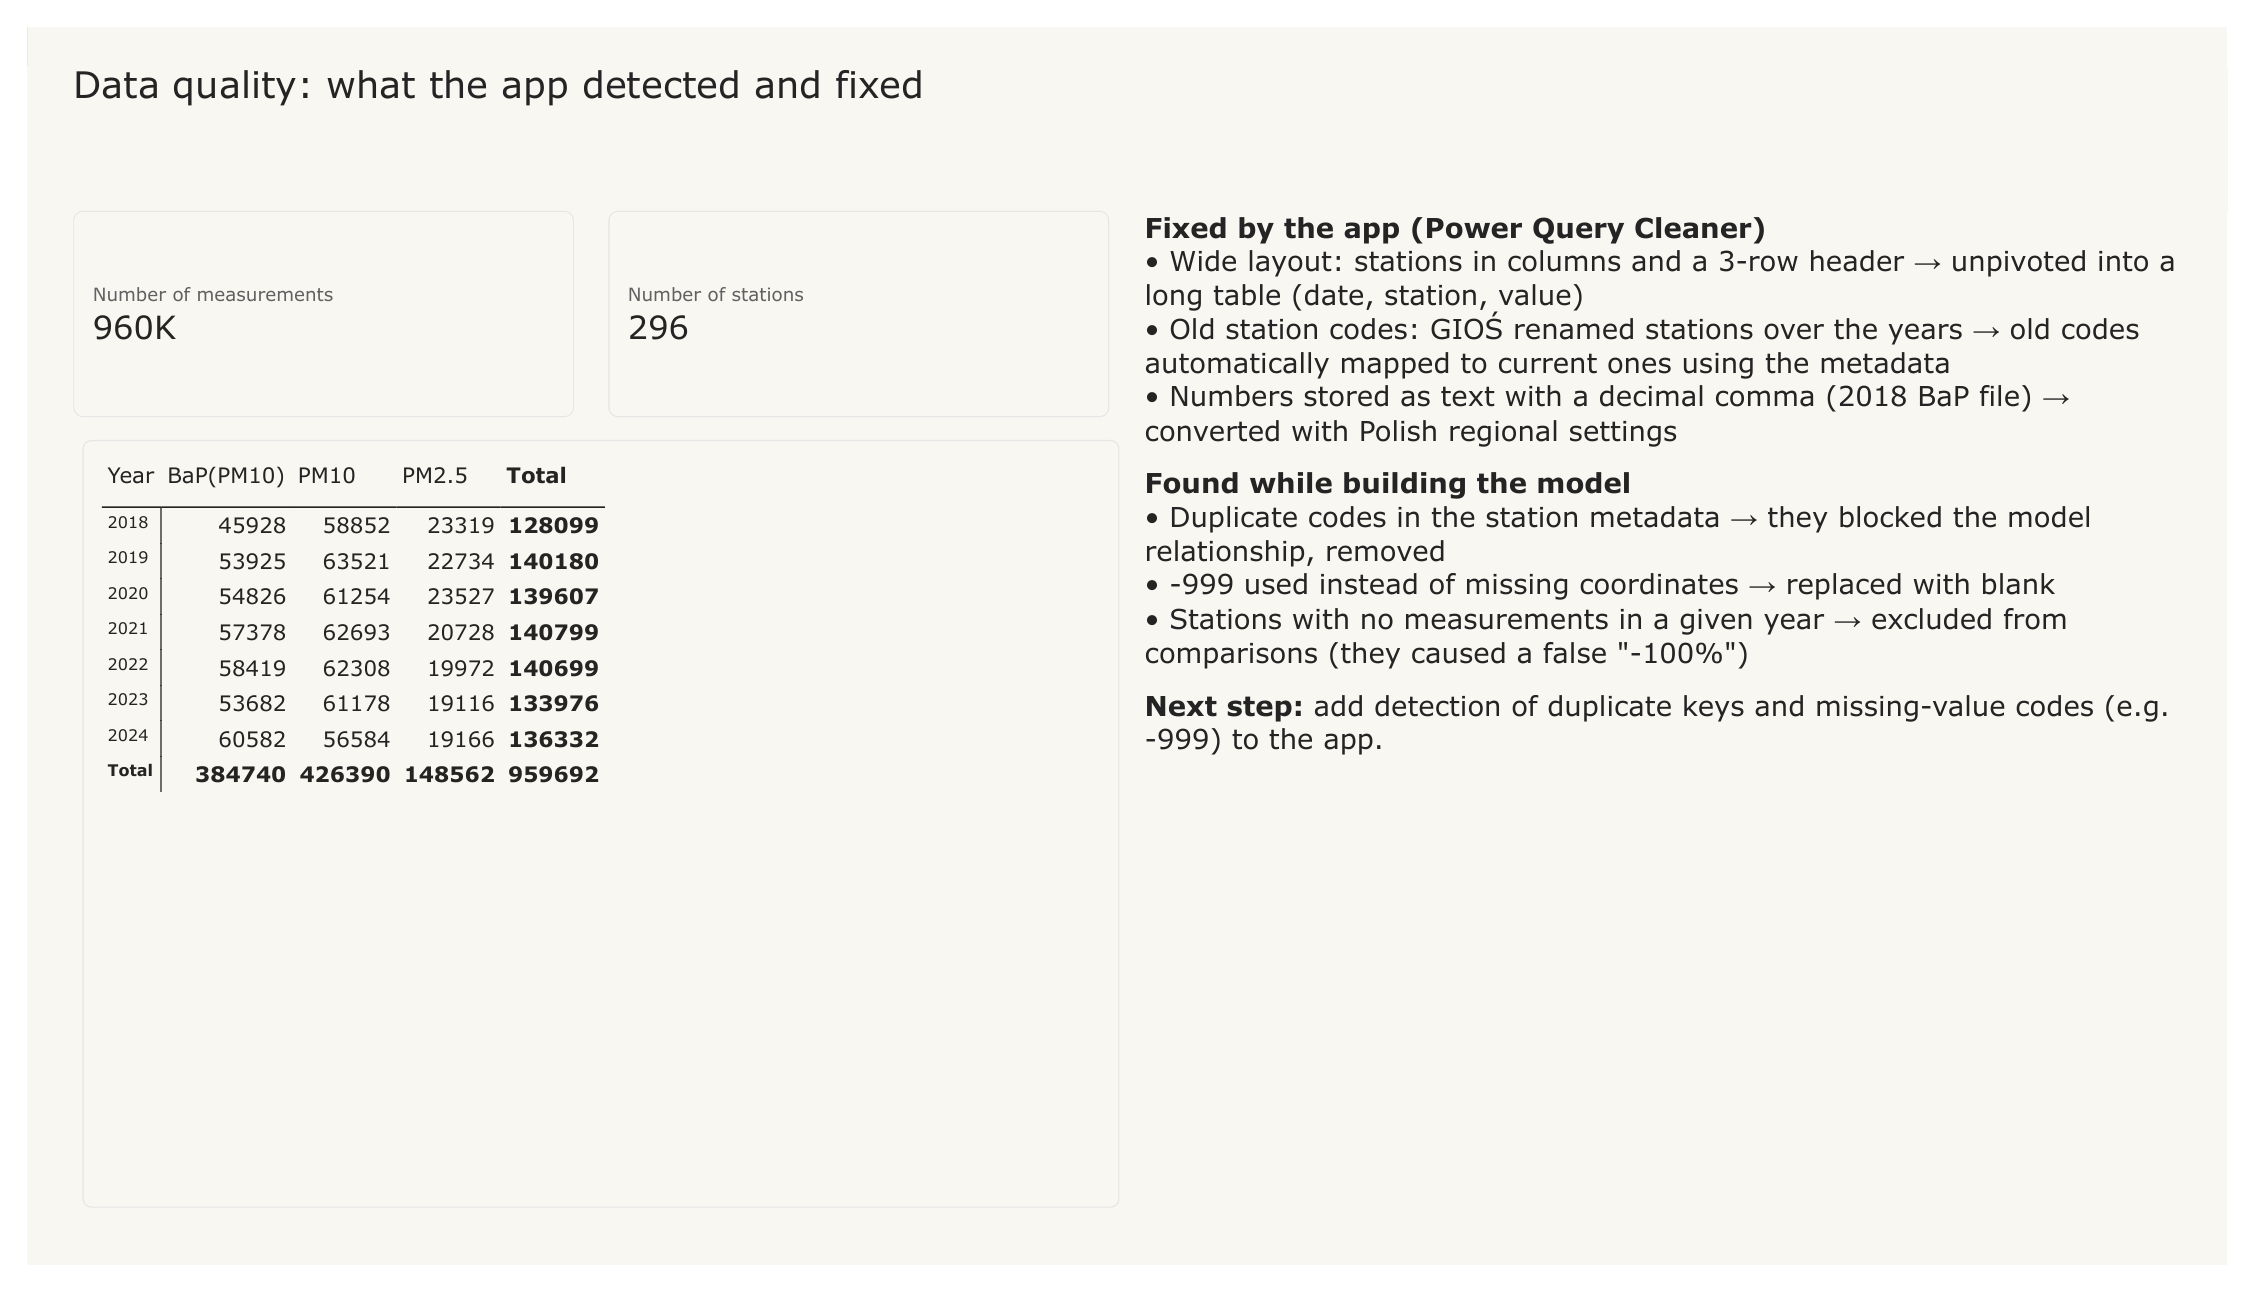

The dashboard page shown, as its layout file describes it:
{"tool":"powerbi","page":{"name":"Data quality","canvas":[1920,1080],"ordinal":4},"visuals":[{"type":"textbox","box":[40,30,1100,100],"z":0},{"type":"cardVisual","fields":{"Data":["Pomiary.Liczba pomiarow"]},"box":[507,160,437,180],"z":1000},{"type":"cardVisual","fields":{"Data":["Pomiary.Liczba stacji"]},"box":[507,160,437,180],"z":2000},{"type":"cardVisual","fields":{"Data":["Pomiary.Liczba pomiarow"]},"box":[40,160,437,180],"z":3000},{"type":"pivotTable","fields":{"Columns":["Pomiary.Wskaznik"],"Rows":["Kalendarz.Rok"],"Values":["Pomiary.Liczba pomiarow"]},"box":[48,360,905,670],"z":4000},{"type":"textbox","box":[975,160,905,880],"z":5000}]}

Visuals, with their boxes in screenshot pixels (x1, y1, x2, y2), scaled from the page's 1920x1080 canvas onto the 2255x1293 screenshot:
textbox: 47,36,1339,156
cardVisual - Pomiary.Liczba pomiarow: 595,192,1109,407
cardVisual - Pomiary.Liczba stacji: 595,192,1109,407
cardVisual - Pomiary.Liczba pomiarow: 47,192,560,407
pivotTable - Pomiary.Wskaznik x Kalendarz.Rok: 56,431,1119,1233
textbox: 1145,192,2208,1245
